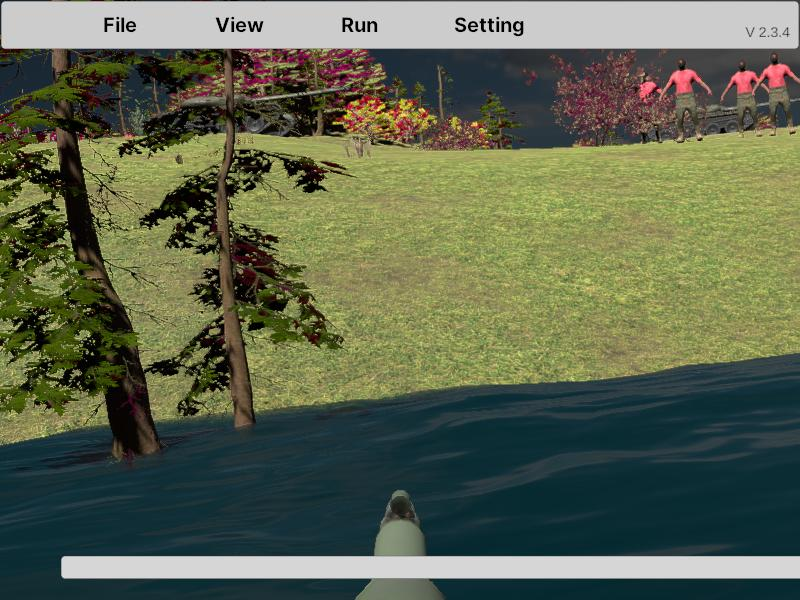Human: (659, 58, 712, 143), (752, 52, 800, 136), (720, 60, 769, 137), (721, 60, 770, 136)
